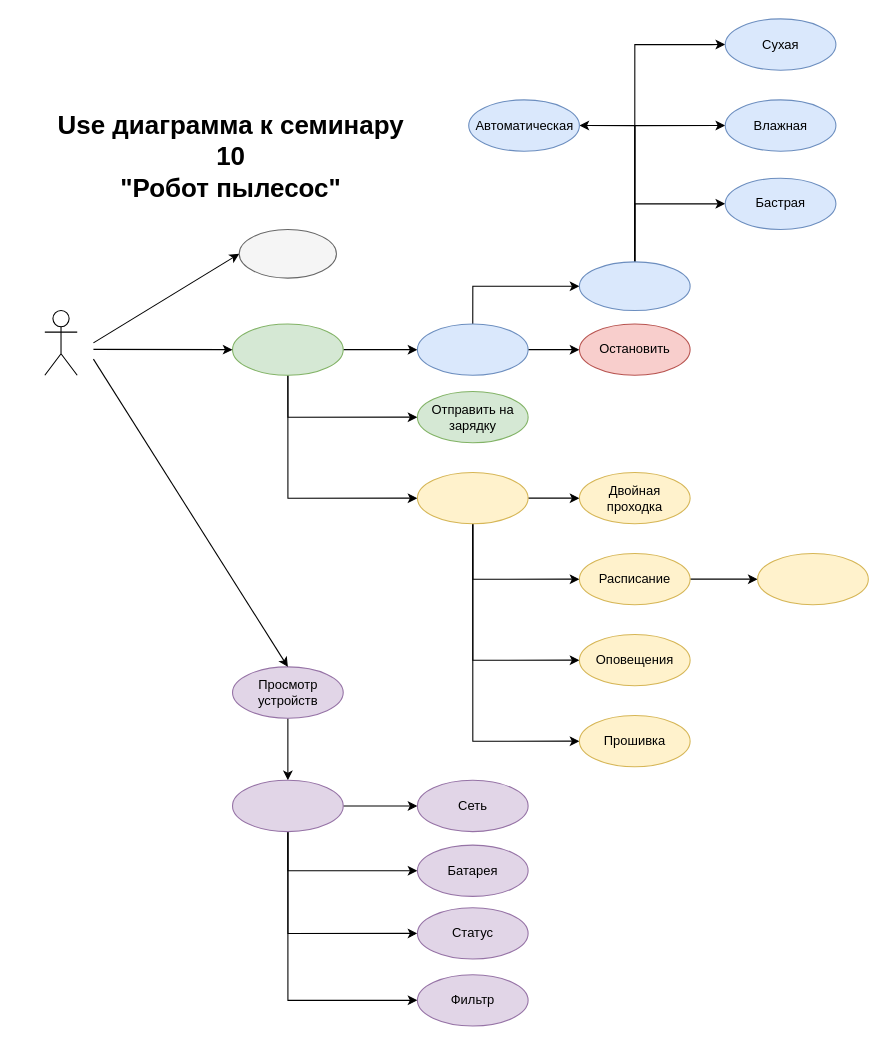
Image size: 888x1045. Some labels were removed from this diagram. Each missing label, with the box of its shape:
График: (757, 552, 868, 605)
Добавление устройства: (238, 228, 336, 278)
Настройки: (416, 471, 528, 524)
Начать: (578, 261, 690, 310)
Пользователь: (44, 309, 77, 375)
Состояние: (231, 779, 343, 832)
Уборка: (416, 323, 528, 375)
Управление устройством: (231, 323, 343, 375)
